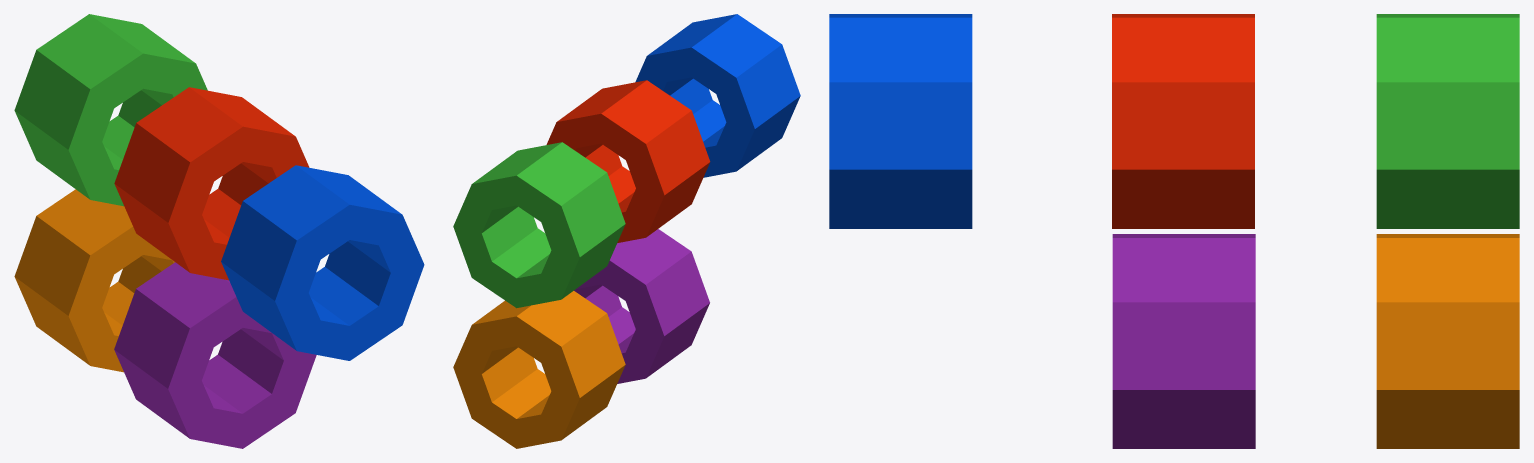
3 renders of one model, left to right at view 1: azimuth 30°, elevation 25°; view 2: azimuth 150°, elevation 25°; view 3: azimuth 270°, elevation 25°, orthographic. The views are drawn at different scales.
Visible parts, largest first — view 1: cylinder blau, cylinder lila, cylinder rot, cylinder grün, cylinder orange; view 2: cylinder grün, cylinder orange, cylinder blau, cylinder rot, cylinder lila; view 3: cylinder blau, cylinder grün, cylinder orange, cylinder lila, cylinder rot.
Part boxes in pixels (x1,y1,x2,y2): cylinder blau: (221, 165, 424, 360); cylinder lila: (114, 262, 316, 448); cylinder rot: (114, 87, 309, 280); cylinder grün: (14, 14, 207, 206); cylinder orange: (14, 189, 174, 372); cylinder grün: (453, 142, 625, 308); cylinder orange: (453, 291, 625, 448); cylinder blau: (635, 14, 800, 177); cylinder rot: (546, 80, 710, 242); cylinder lila: (574, 229, 709, 383); cylinder blau: (829, 14, 972, 228); cylinder grün: (1376, 14, 1519, 228); cylinder orange: (1376, 234, 1519, 448); cylinder lila: (1112, 234, 1255, 448); cylinder rot: (1112, 14, 1254, 228).
Bounding box in the file's own units: 0.6715 × 1.38 × 2.03.
